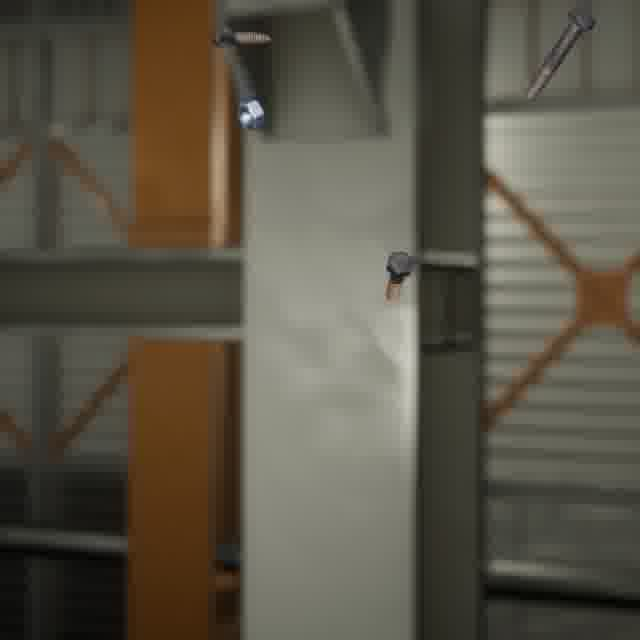bolt: (519, 3, 600, 105), (381, 247, 418, 307), (206, 23, 275, 51)
nut: (233, 94, 269, 134)
